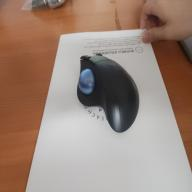mouse: (76, 51, 140, 134)
